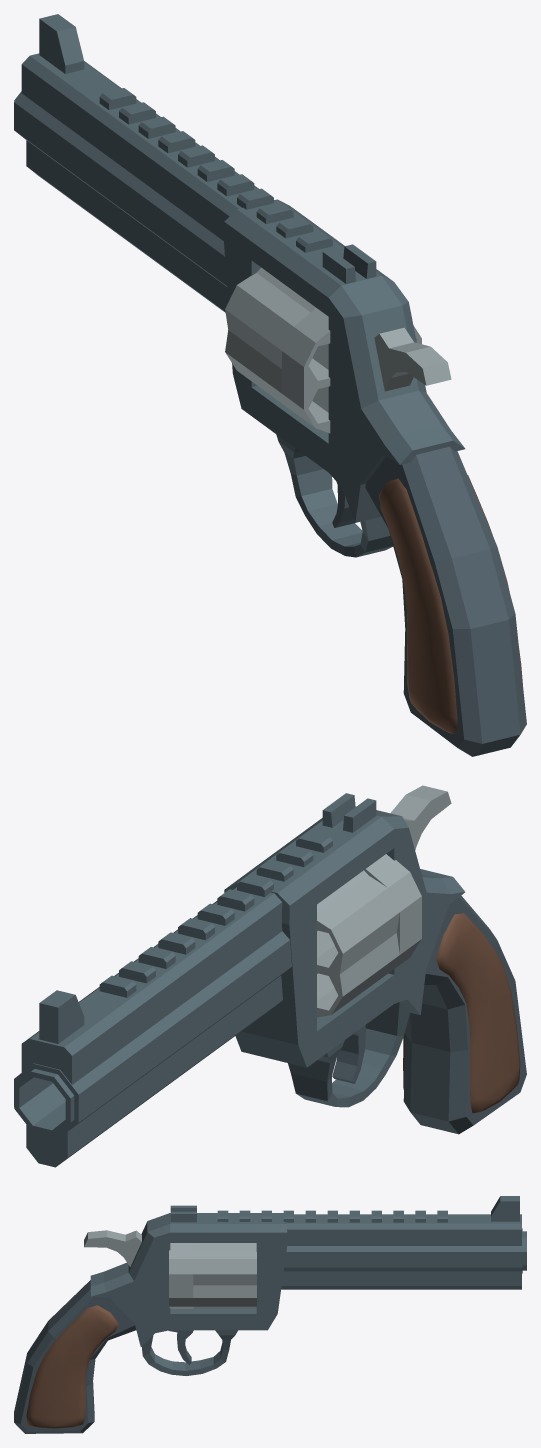
The model's file is sheriff.glb.
3 views of the same model, one above another, from view 1: azimuth 30°, elevation 25°; view 2: azimuth 150°, elevation 25°; view 3: azimuth 270°, elevation 25° (orthographic). The views are drawn at different scales.
Visible parts, largest first — view 1: sheriff; view 2: sheriff; view 3: sheriff.
Part boxes in pixels (x1,y1,x2,y2): sheriff: [14, 14, 526, 756]; sheriff: [14, 785, 526, 1167]; sheriff: [14, 1196, 526, 1433].
Bounding box in the file's own units: 0.1207 × 0.4028 × 0.8138.
